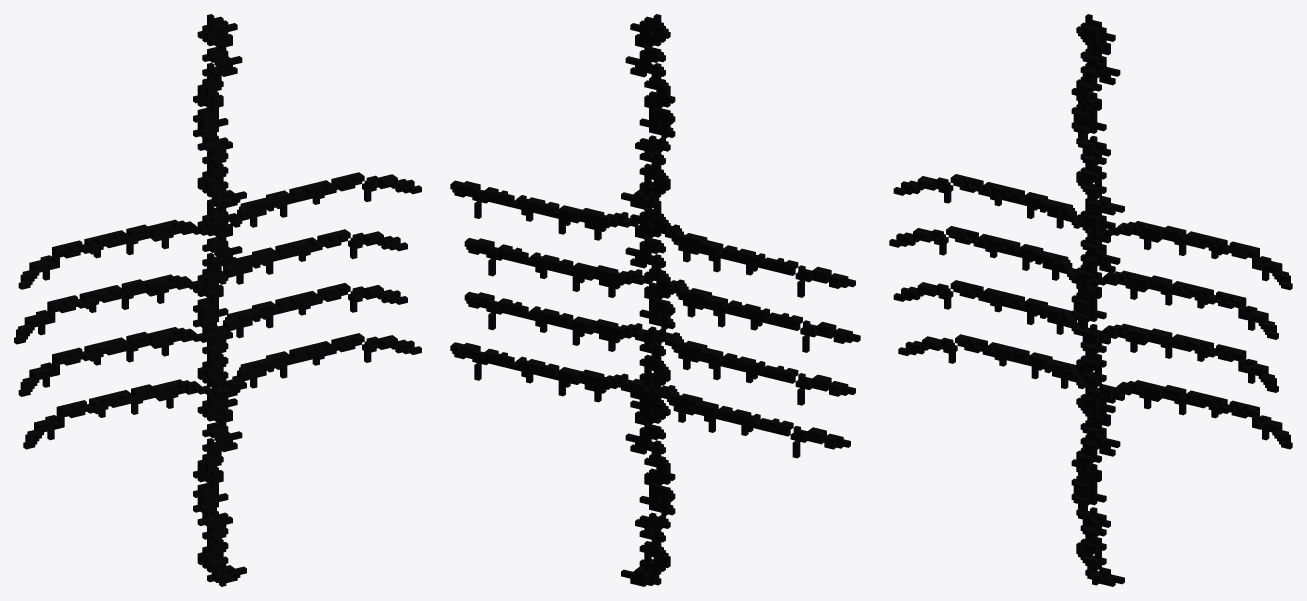
The model's file is Backbone.002.fbx.
3 renders of one model, left to right at view 1: azimuth 30°, elevation 25°; view 2: azimuth 150°, elevation 25°; view 3: azimuth 330°, elevation 25°, orthographic.
Parts seen in each view (by area): view 1: Backbone.002; view 2: Backbone.002; view 3: Backbone.002.
Boxes of the visible parts, x1,y1,x2,y2 form: Backbone.002: [14, 14, 421, 586]; Backbone.002: [450, 14, 860, 586]; Backbone.002: [889, 14, 1292, 586].
Bounding box in the file's own units: 8.7 × 11.7 × 0.6.
